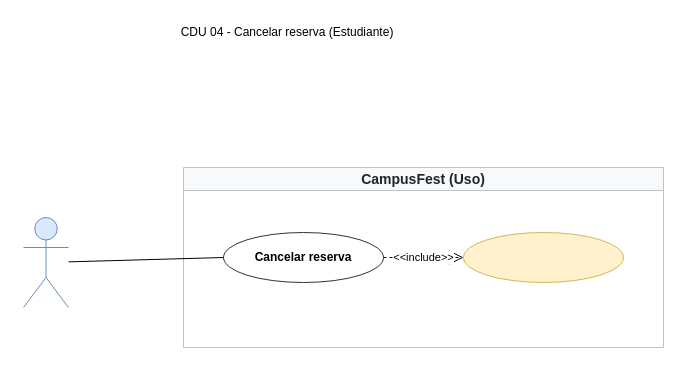
Some shapes in this 681 by 365 pixel diagram are drawn without their labels. The shapes that lost their labels are listed below. From the top down, each one's centre as x and y in pixels, then its label:
At [45,262]: "Estudiante".
At [543,257]: "Consultar eventos".
